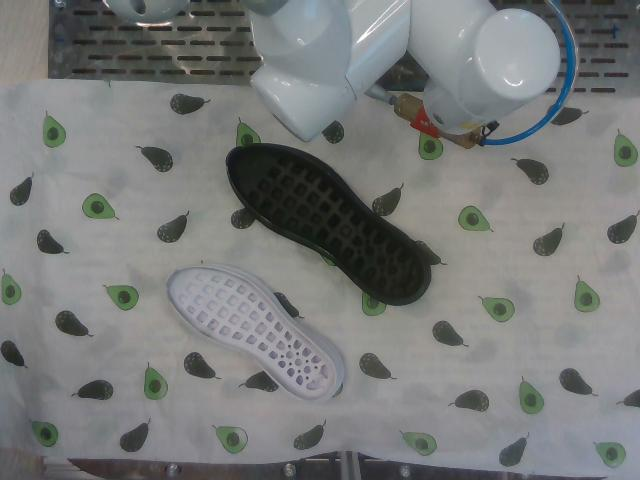shoes: (228, 146, 423, 299), (168, 267, 335, 400)
